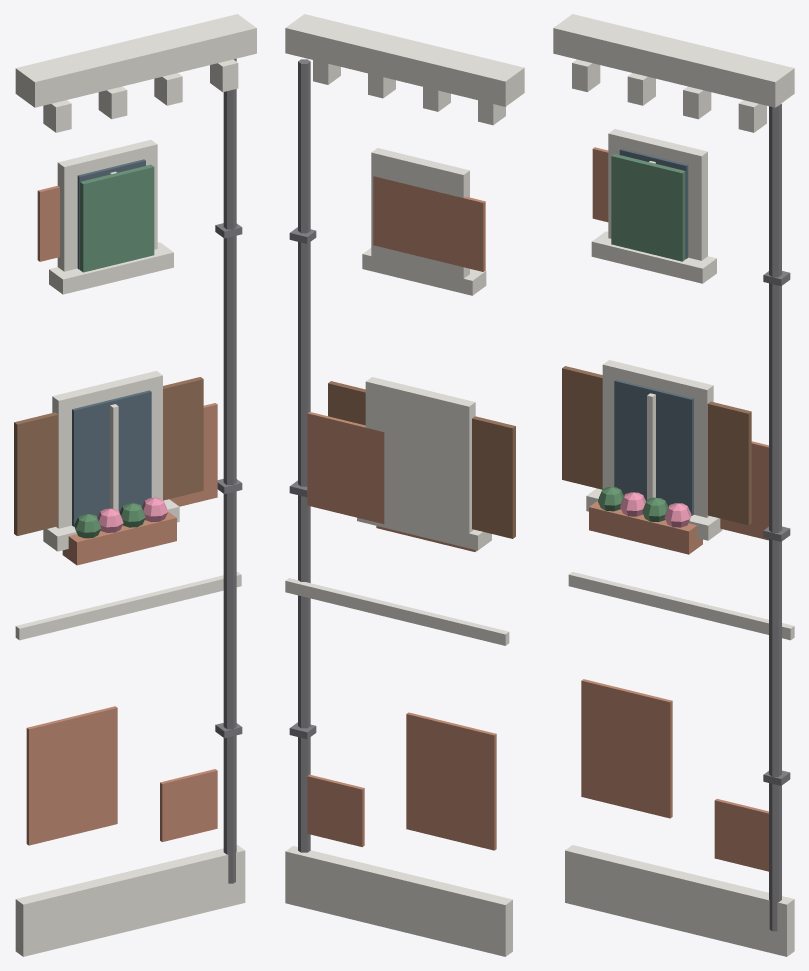
The model's file is VN_Fachada_D.fbx.
3 renders of one model, left to right at view 1: azimuth 30°, elevation 25°; view 2: azimuth 150°, elevation 25°; view 3: azimuth 330°, elevation 25°, orthographic.
Visible parts, largest first — view 1: VN_Fachada_D; view 2: VN_Fachada_D; view 3: VN_Fachada_D.
Part boxes in pixels (x1,y1,x2,y2): VN_Fachada_D: (14,14,256,956); VN_Fachada_D: (285,14,524,956); VN_Fachada_D: (553,14,794,956).
Bounding box in the file's own units: 2.04 × 7.6 × 0.3705.
